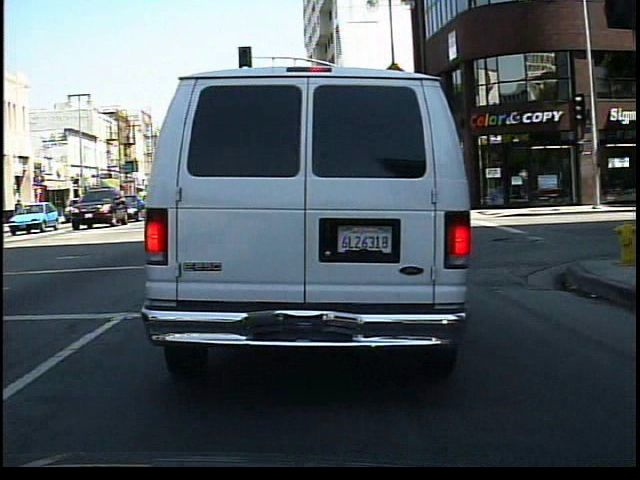person: (10, 196, 27, 227)
